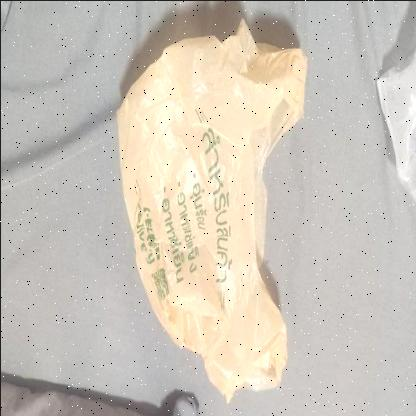Others: (114, 23, 306, 401)
